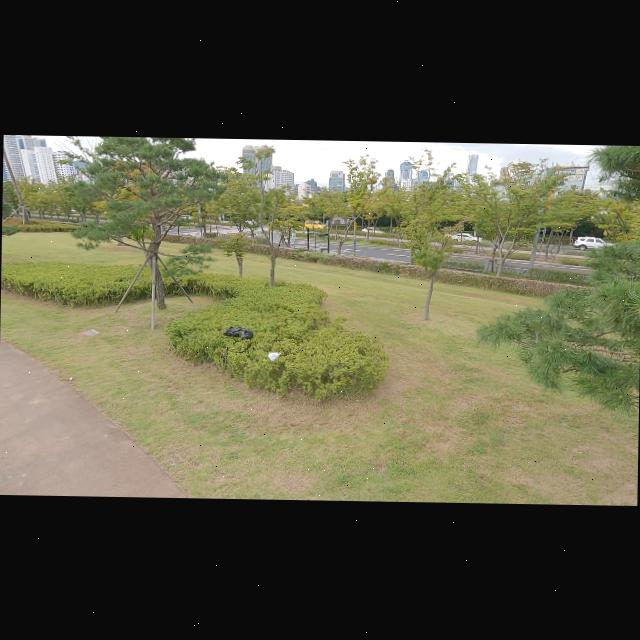trash: (228, 324, 244, 340), (264, 348, 282, 362), (237, 329, 254, 342), (223, 323, 239, 336)
